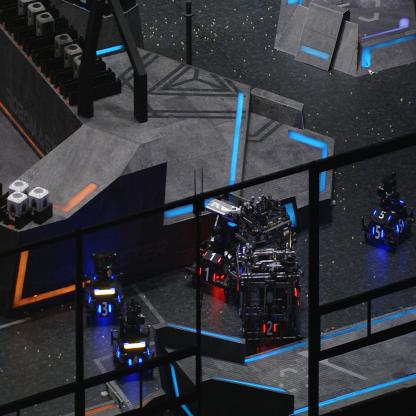car: (224, 192, 298, 302), (238, 240, 302, 354), (186, 192, 252, 299), (360, 171, 414, 251), (110, 296, 155, 381), (83, 250, 125, 325)
